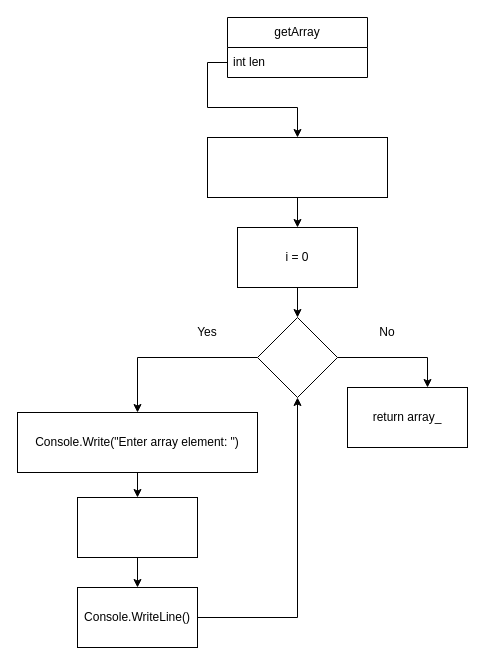
Some shapes in this 485 by 665 pixel diagram are drawn without their labels. The shapes that lost their labels are listed below. From the top down, each one's centre as x and y in pixels, then its label:
At point (297, 167): "string[] array_ = new string[len]".
At point (297, 357): "i < len?".
At point (137, 527): "array_[i] = Console.ReadLine()".
